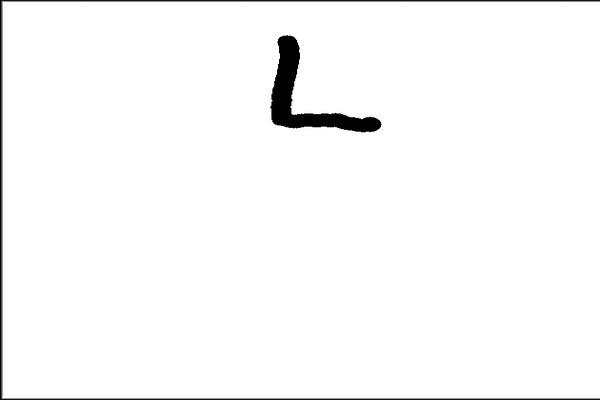L: (262, 27, 387, 141)
